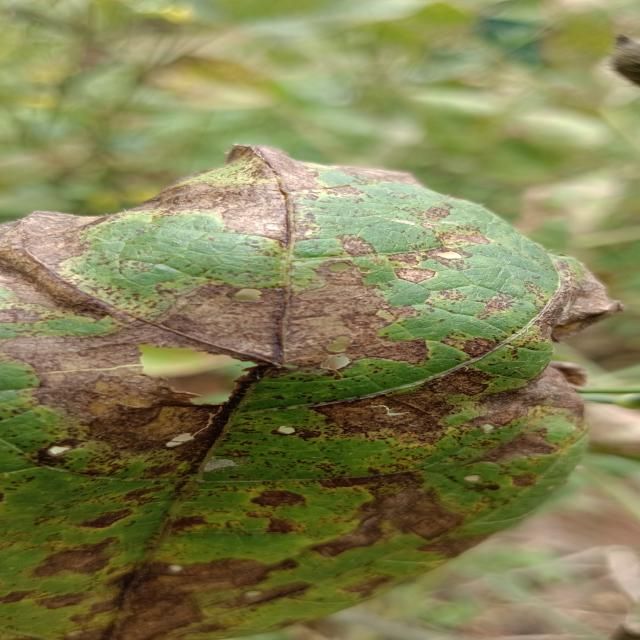Black gram_leaf spot: (0, 137, 618, 640)
